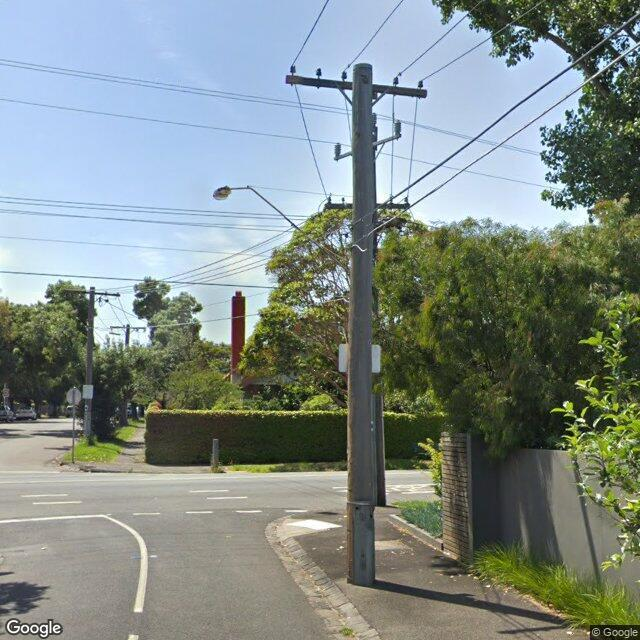HV-transmission: (334, 112, 402, 156)
crossarm: (286, 74, 427, 98), (334, 134, 402, 162), (324, 203, 410, 210), (61, 290, 119, 296), (110, 326, 146, 328)
streetlight: (213, 185, 351, 278)
timber-pole: (348, 64, 376, 585), (84, 287, 95, 446), (125, 323, 129, 348)
